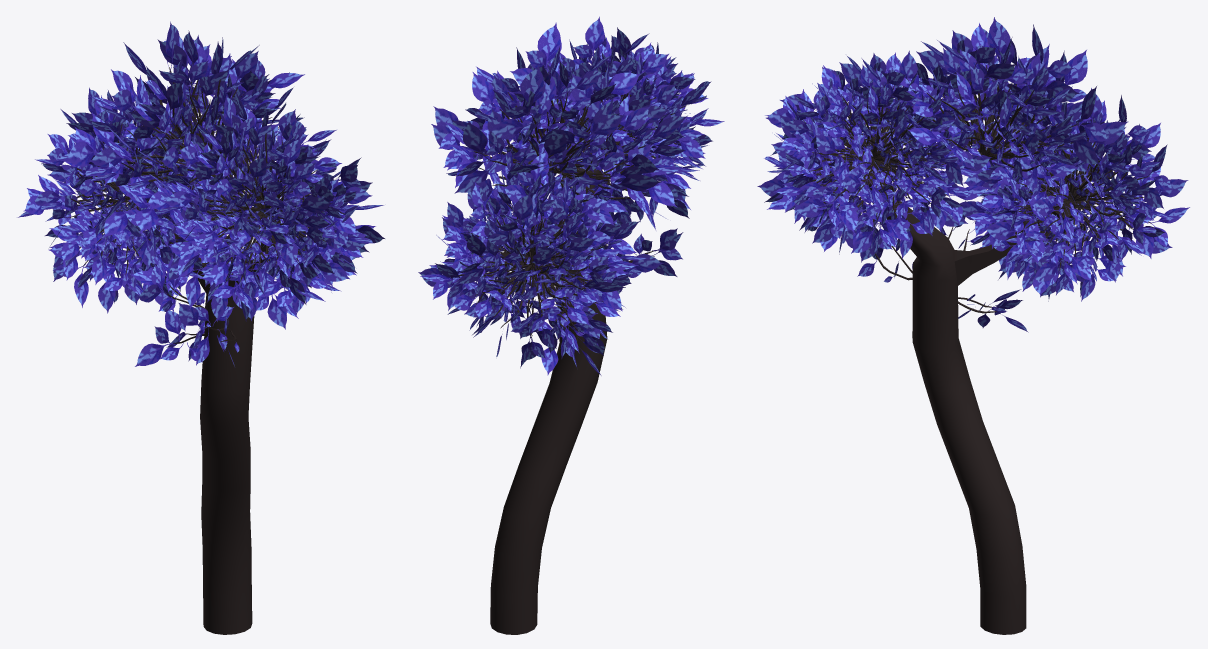
Rendered from purpletree8.fbx.
3 views of the same model, side by side, from view 1: azimuth 30°, elevation 25°; view 2: azimuth 150°, elevation 25°; view 3: azimuth 270°, elevation 25° (orthographic). The views are drawn at different scales.
Parts seen in each view (by area): view 1: pCylinder1072; view 2: pCylinder1072; view 3: pCylinder1072.
Boxes of the visible parts, x1,y1,x2,y2 form: pCylinder1072: (17,21,384,634); pCylinder1072: (418,16,724,634); pCylinder1072: (757,17,1189,634).
Size of the model in its own units: 22.8 by 55.02 by 36.9.
